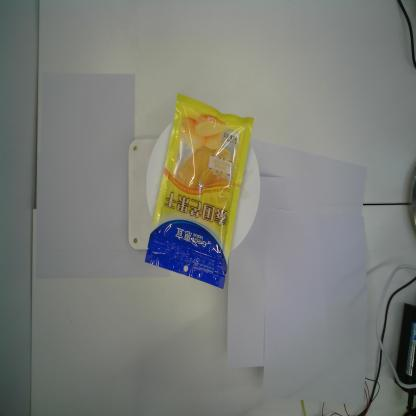Dried Fruit: (144, 91, 255, 290)
